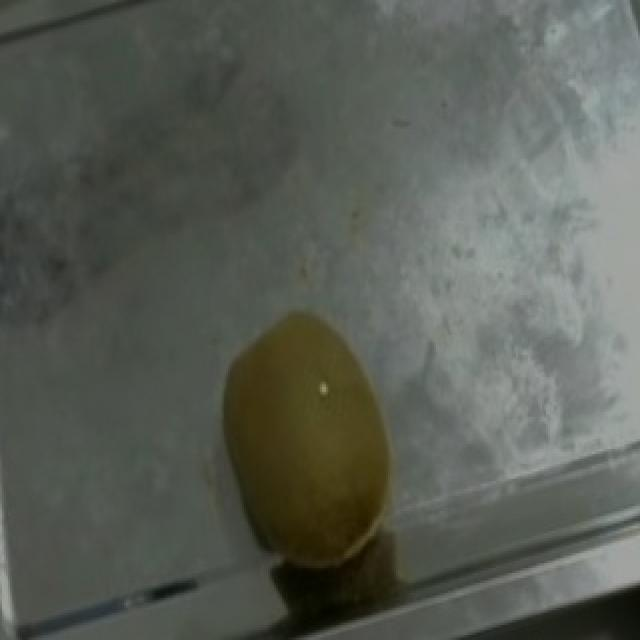Fruit: (188, 293, 434, 600)
